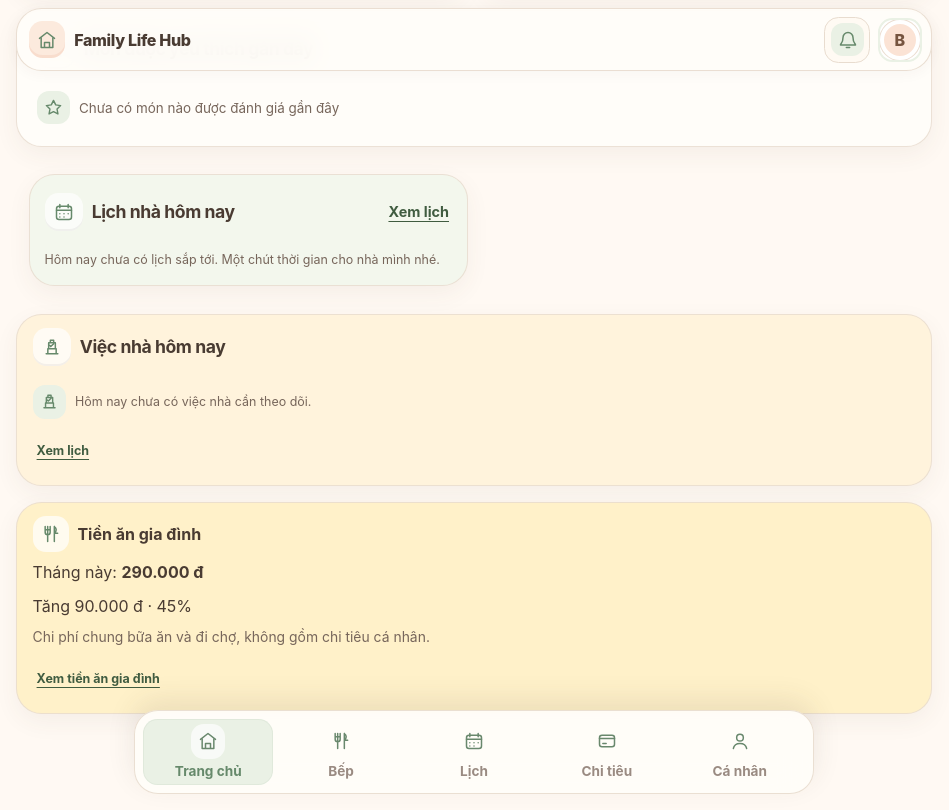
Test case: warm role-aware Home › navigates Home CTA and role destinations for PARENT
(page scrolled)
Expected: the button named "Thông báo" is shown, [824, 16, 870, 62]
Click the button "Xem tiền ăn gia đình". click: [98, 678]
box: [33, 656, 164, 700]
(page scrolled)
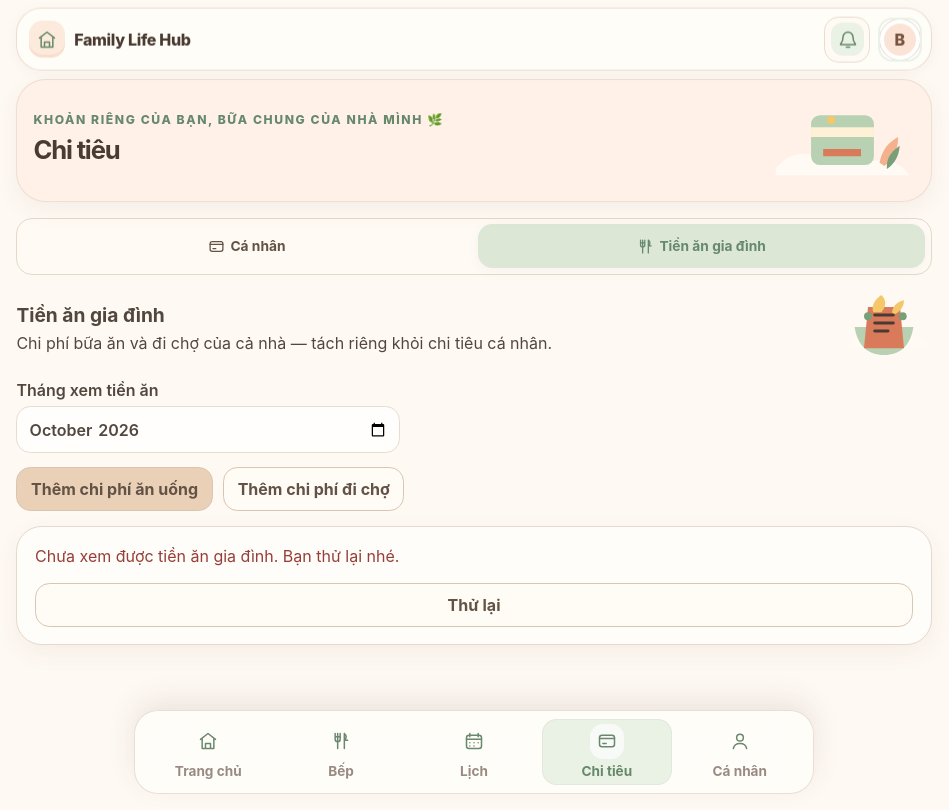
Expected: the heading "Chi tiêu" is shown, [33, 134, 120, 165]
